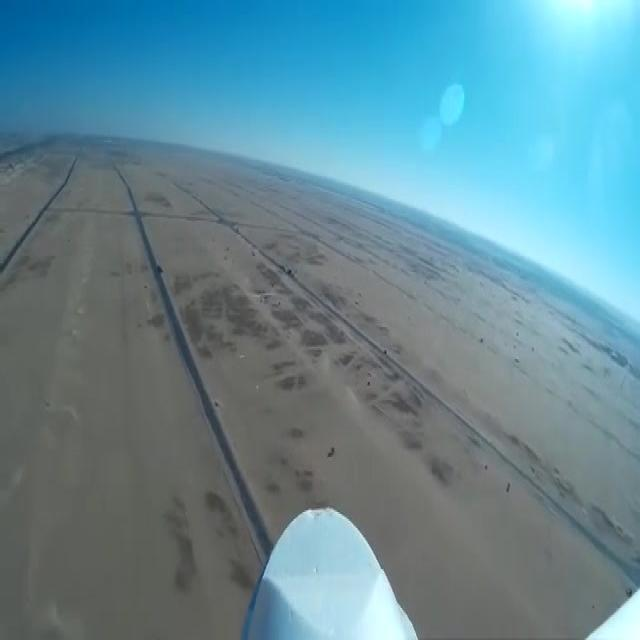iha: (249, 287, 275, 303)
